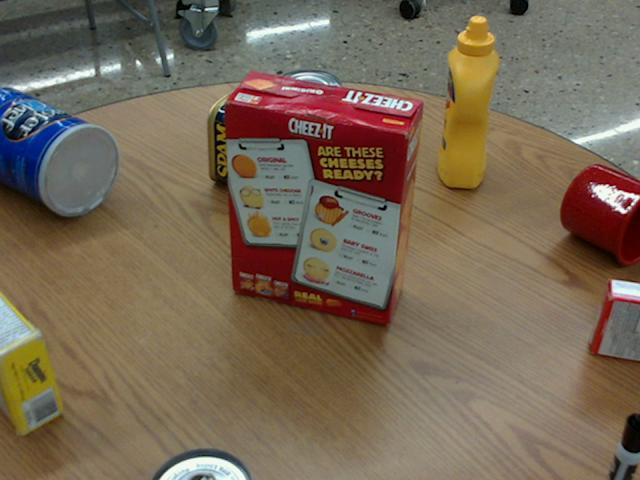cracker_box: (226, 71, 424, 322)
gelatin_box: (592, 281, 639, 362)
large_marker: (611, 415, 639, 479)
master_chef_can: (0, 86, 121, 215)
mug: (561, 163, 639, 265)
mustard_bottle: (438, 16, 499, 186)
potted_meat_can: (208, 92, 296, 196)
sugar_box: (0, 285, 66, 431)
tomato_soup_can: (155, 448, 256, 479)
tuna_fish_can: (278, 67, 343, 120)
